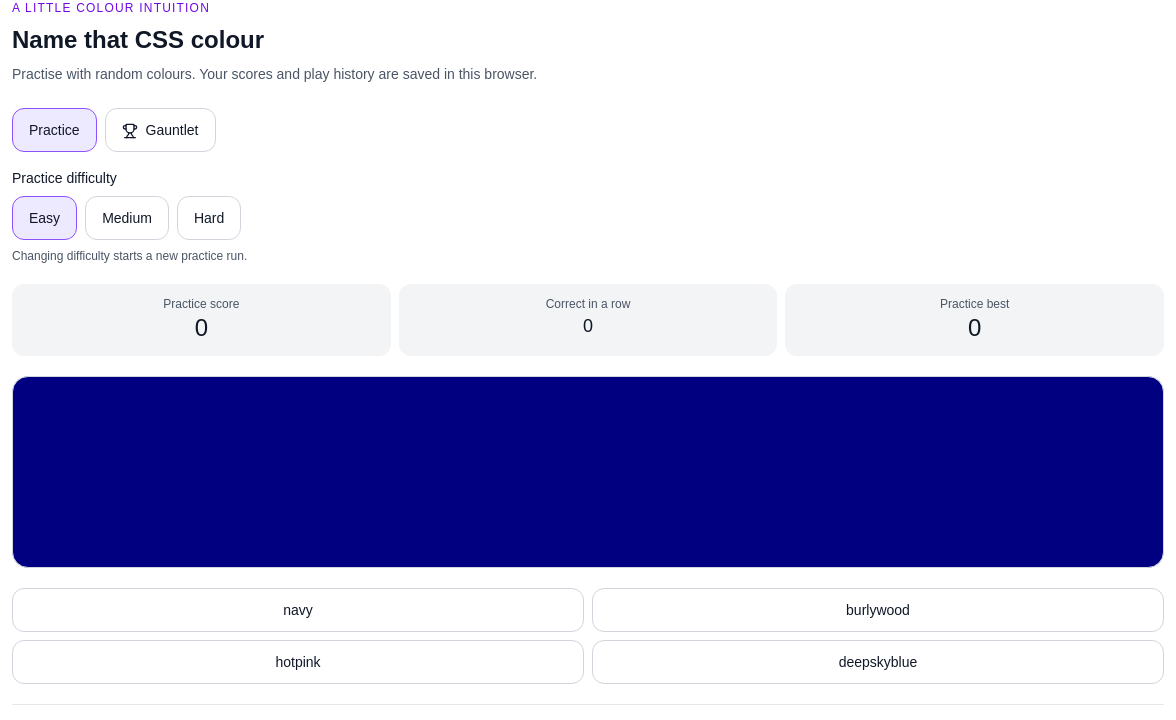
Scenario: hard mode uses a labelled form and ignores blank submissions
The width and height of the screenshot is (1176, 720).
Click the button "Hard": (209, 218) [177,196,241,240]
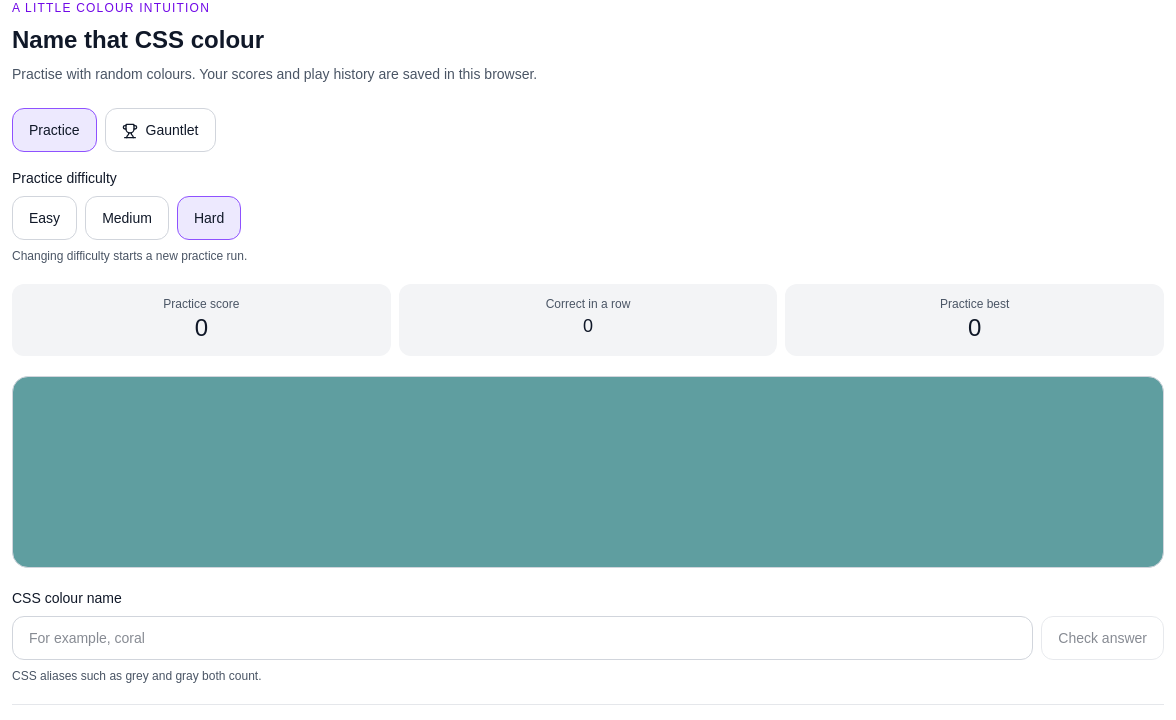
Submit the form labelled "CSS colour name", box [12,588,1164,684]
Check: the button "Next colour" is not shown
In the field labelled "CSS colour name": (523, 638) [12,616,1033,660], type "notacolour"
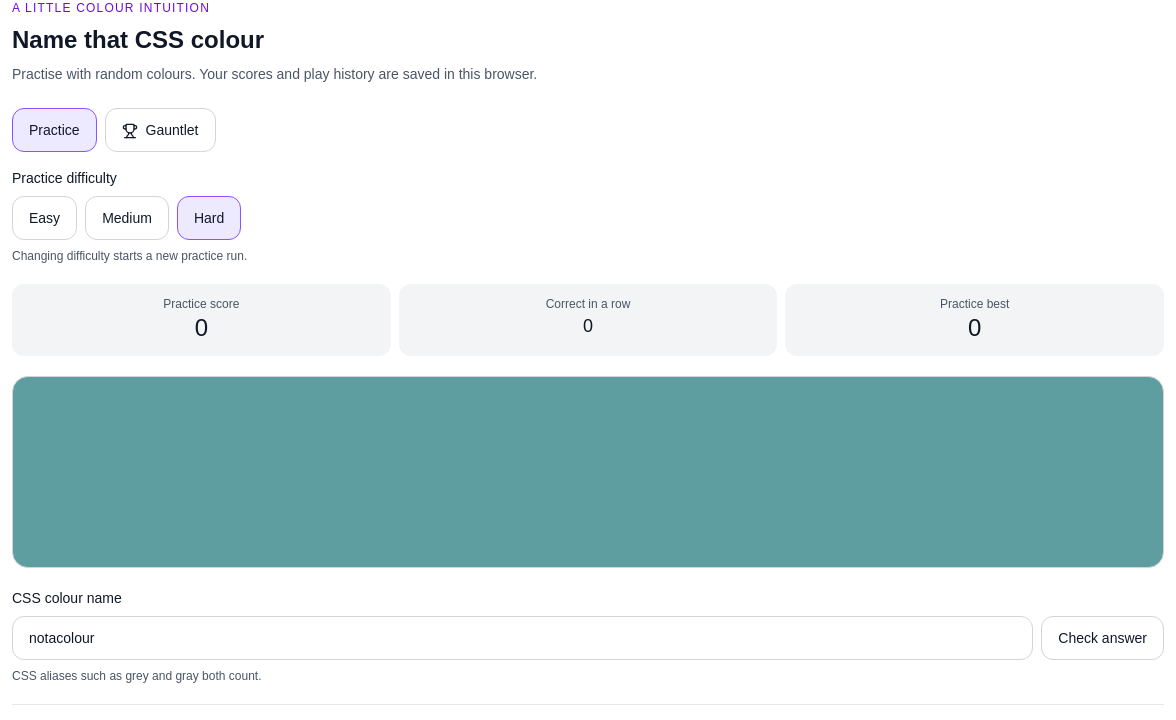
Submit the form labelled "CSS colour name", box [12,588,1164,684]
(page scrolled)
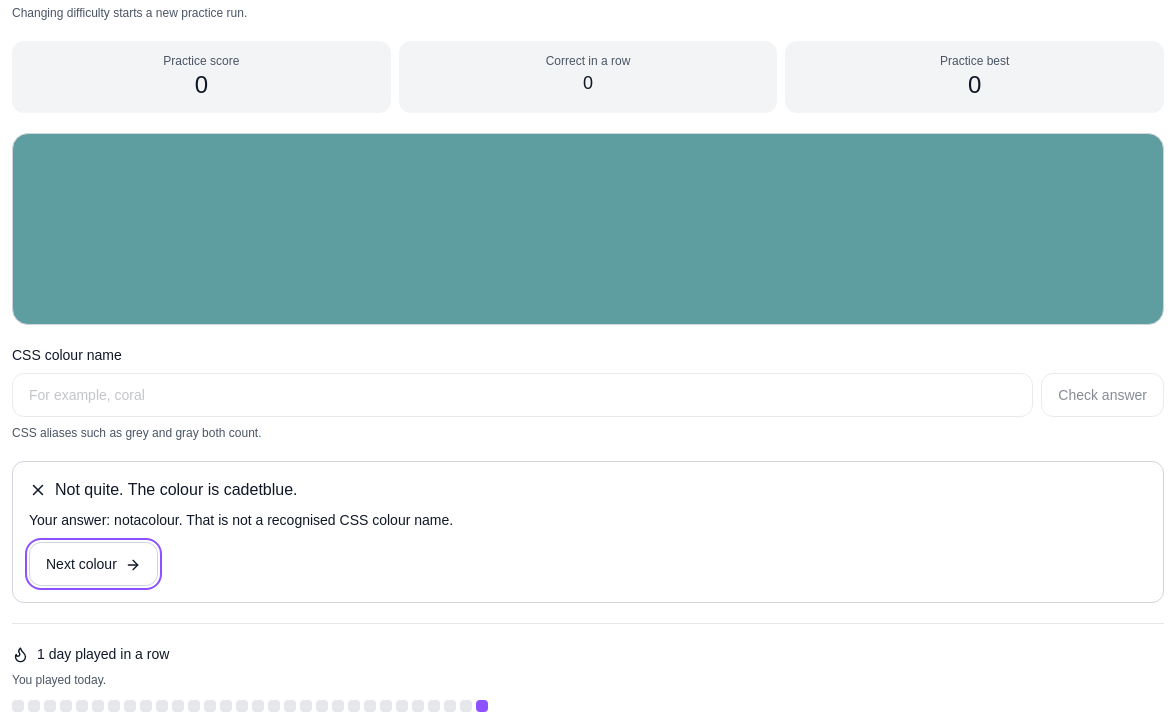
Check: the message shows "Not quite", box [55,481,119,498]
